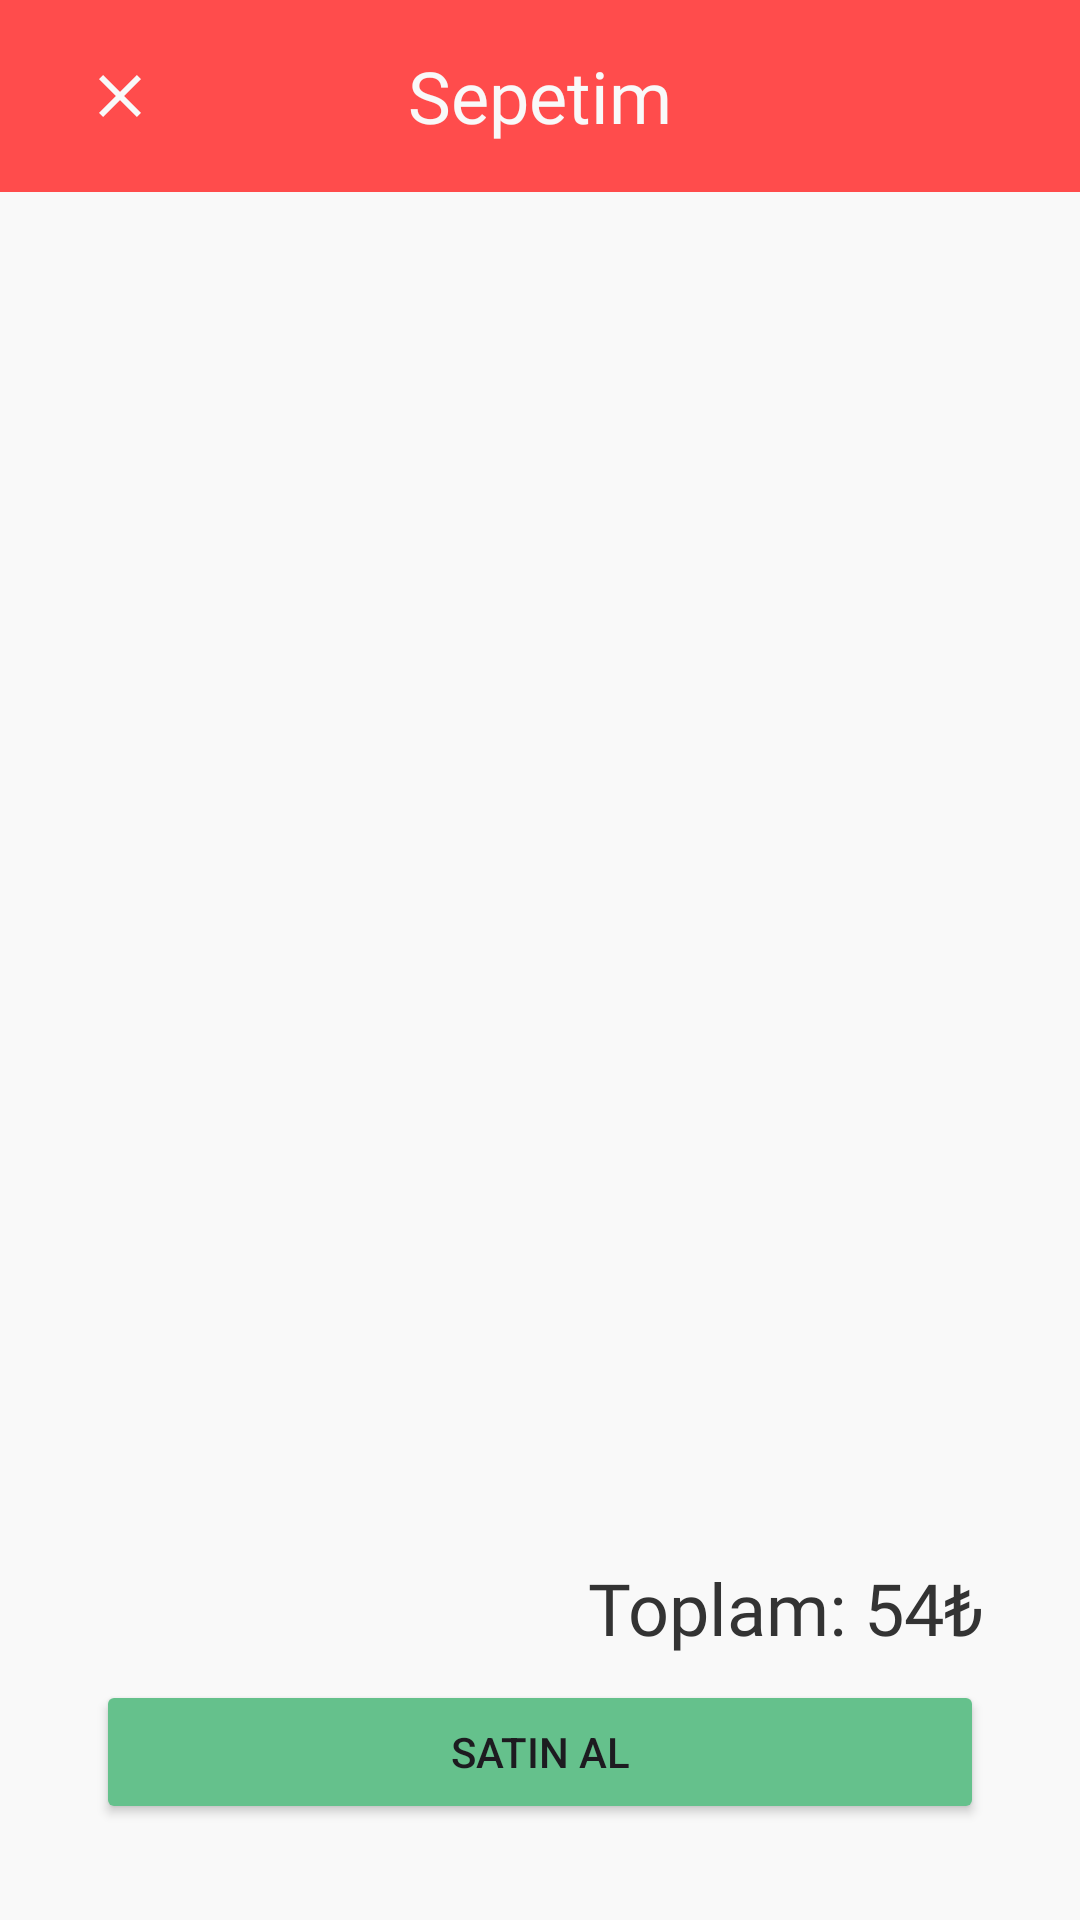

Named icons in this screenshot (1080 × 1920) and their centers, [x,y]:
Kapat: [120,96]
